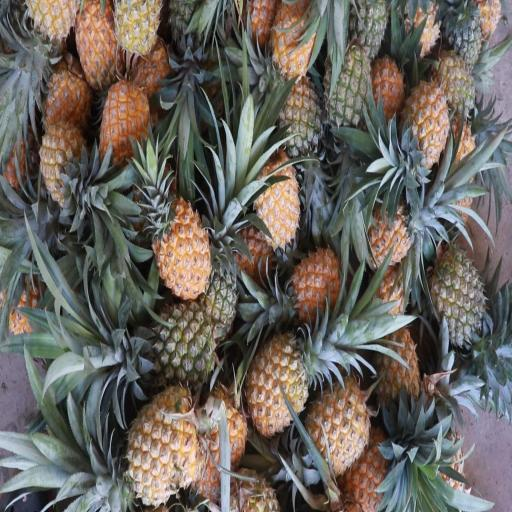------------------------------: (273, 71, 328, 175), (427, 34, 482, 122)
Pineapple - v8 v1: (119, 379, 203, 511), (300, 368, 374, 483), (188, 364, 248, 504), (242, 322, 313, 438), (146, 186, 212, 299), (365, 306, 422, 431), (248, 124, 304, 239), (284, 226, 344, 331), (93, 63, 149, 175), (342, 423, 410, 512), (394, 72, 448, 176), (360, 182, 418, 274), (38, 114, 92, 212), (215, 446, 290, 512), (262, 0, 317, 81), (72, 0, 116, 77)
